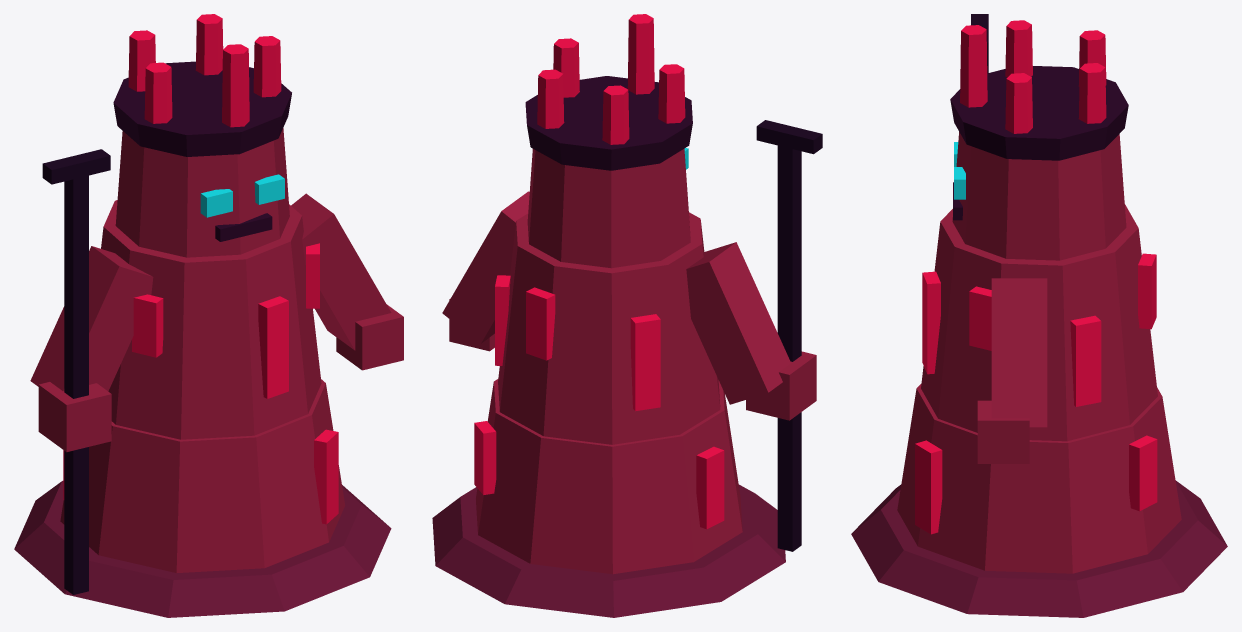
File: king.glb
The picture shows the model from 3 angles, left to right: view 1: azimuth 30°, elevation 25°; view 2: azimuth 150°, elevation 25°; view 3: azimuth 270°, elevation 25°; orthographic projection. The views are drawn at different scales.
Visible parts, largest first — view 1: King; view 2: King; view 3: King.
Boxes of the visible parts, box(x1,y1,x2,y2) form: King: box(14, 14, 403, 617); King: box(432, 14, 822, 617); King: box(851, 14, 1227, 617).
Size of the model in its own units: 2.05 by 2.83 by 1.89.
